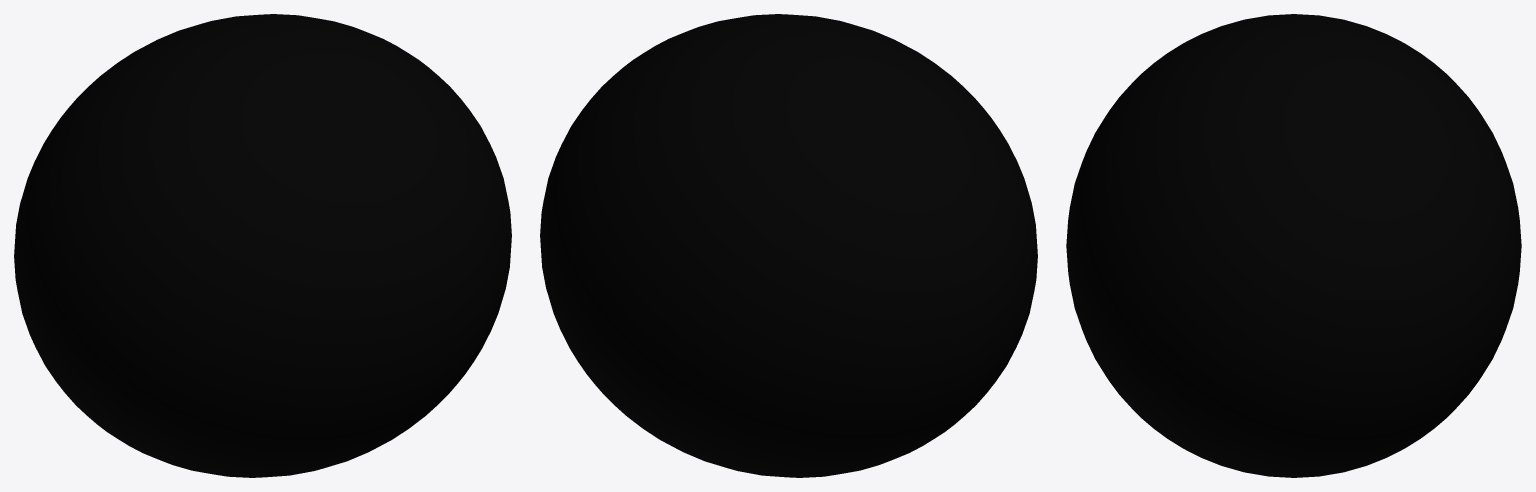
File: bubble-ish.glb
The picture shows the model from 3 angles, left to right: view 1: azimuth 30°, elevation 25°; view 2: azimuth 150°, elevation 25°; view 3: azimuth 270°, elevation 25°; orthographic projection.
Visible parts, largest first — view 1: mesh_id27; view 2: mesh_id27; view 3: mesh_id27.
Boxes of the visible parts, x1,y1,x2,y2 form: mesh_id27: (14,14,511,477); mesh_id27: (540,14,1037,477); mesh_id27: (1066,14,1521,477).
Bounding box in the file's own units: 0.3392 × 0.3075 × 0.3075.
Materials: 1 (1 with a texture image).
